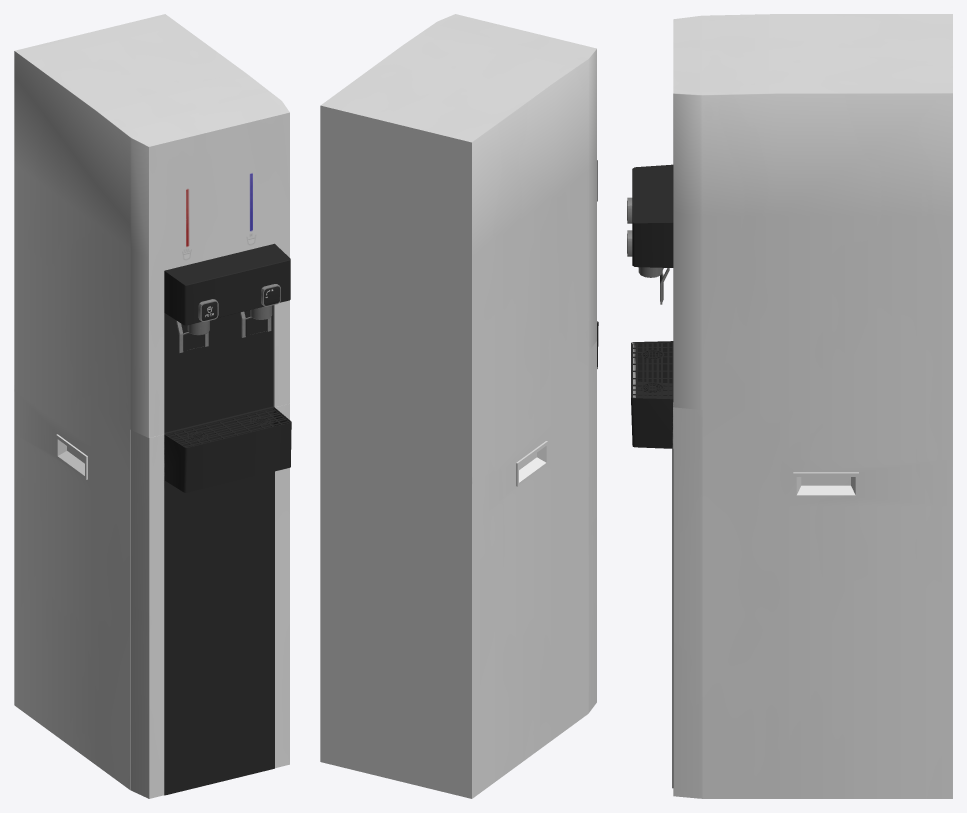
The model's file is waterpurifier.fbx.
The picture shows the model from 3 angles, left to right: view 1: azimuth 30°, elevation 25°; view 2: azimuth 150°, elevation 25°; view 3: azimuth 270°, elevation 25°; orthographic projection. The views are drawn at different scales.
Parts seen in each view (by area): view 1: Waterpurifier, waterdrophole, hotwatercorkbutton, coldwatercorkbutton; view 2: Waterpurifier; view 3: Waterpurifier, waterdrophole.
Boxes of the visible parts, box(x1,y1,x2,y2) form: Waterpurifier: box(14, 14, 291, 798); waterdrophole: box(166, 408, 289, 447); hotwatercorkbutton: box(176, 320, 208, 352); coldwatercorkbutton: box(240, 311, 271, 337); Waterpurifier: box(320, 14, 598, 798); Waterpurifier: box(631, 14, 952, 798); waterdrophole: box(632, 342, 673, 398).
Bounding box in the file's own units: 28.46 × 115 × 48.16.
Materials: 1 (1 with a texture image).
